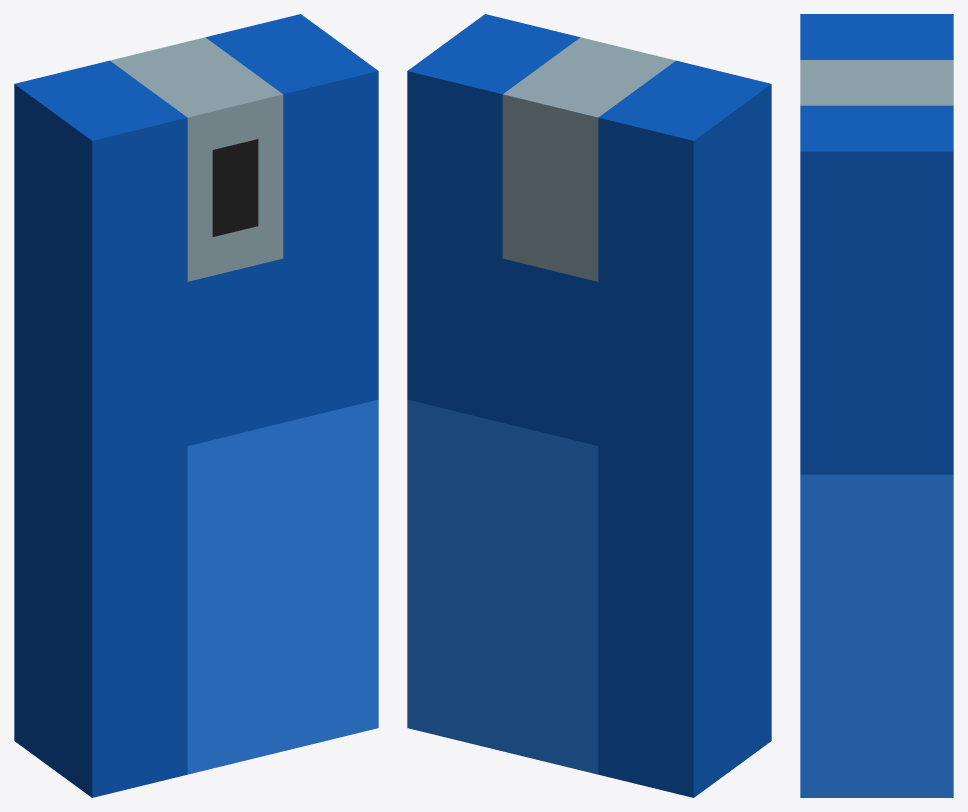
The model's file is Key.glb.
3 views of the same model, side by side, from view 1: azimuth 30°, elevation 25°; view 2: azimuth 150°, elevation 25°; view 3: azimuth 270°, elevation 25° (orthographic).
Visible parts, largest first — view 1: Key; view 2: Key; view 3: Key.
Part boxes in pixels (x1=…): Key: x1=14, y1=14, x2=378, y2=797; Key: x1=407, y1=14, x2=771, y2=797; Key: x1=800, y1=14, x2=953, y2=797.
Bounding box in the file's own units: 2.03 × 4.44 × 0.9544.
1 material, 1 textured.
